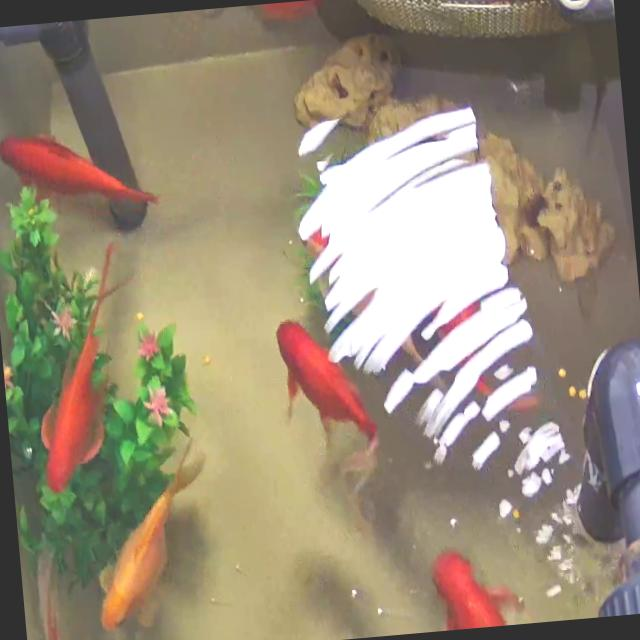fish: (0, 241, 174, 501), (228, 258, 410, 496), (82, 433, 214, 640), (388, 516, 600, 634), (0, 92, 159, 239), (182, 0, 360, 40), (21, 571, 104, 640)
